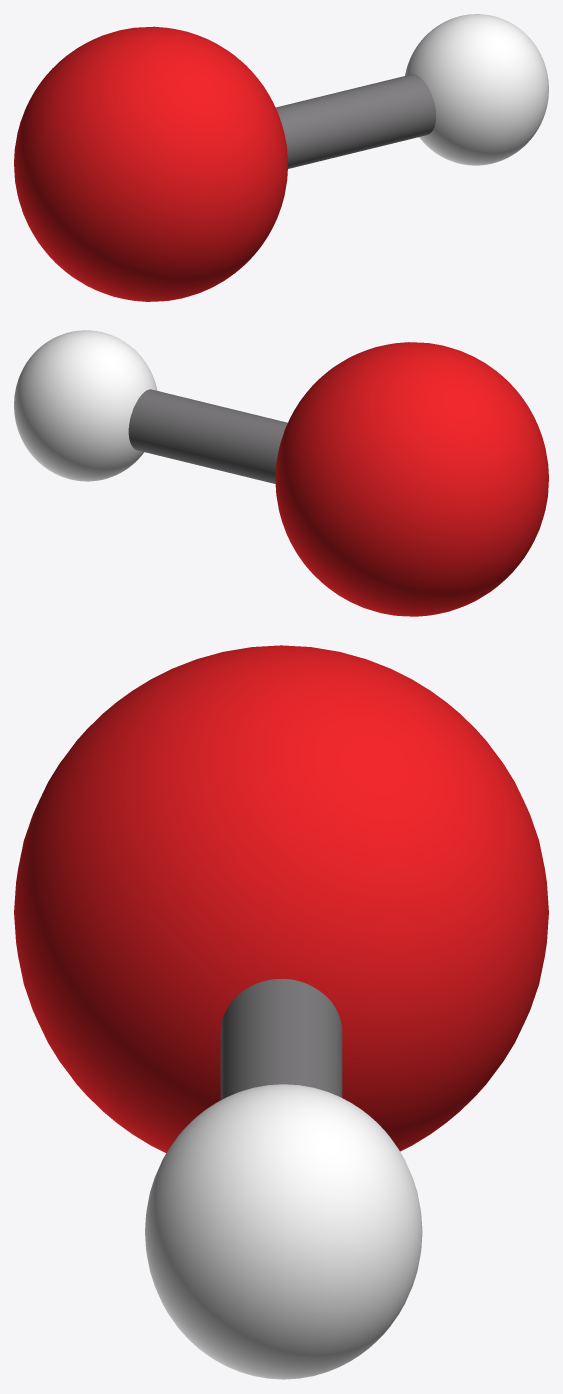
Rendered from NACL.fbx.
3 renders of one model, top to bottom at view 1: azimuth 30°, elevation 25°; view 2: azimuth 150°, elevation 25°; view 3: azimuth 270°, elevation 25°, orthographic. The views are drawn at different scales.
Parts seen in each view (by area): view 1: root (×3); view 2: root (×3); view 3: root (×3).
Part boxes in pixels (bbox=[...]): root (×3): bbox=[14, 14, 548, 301]; root (×3): bbox=[14, 330, 548, 616]; root (×3): bbox=[14, 645, 548, 1379].
Size of the model in its own units: 0.6581 by 0.3091 by 0.3091.
Materials: 3 (3 with a texture image).
